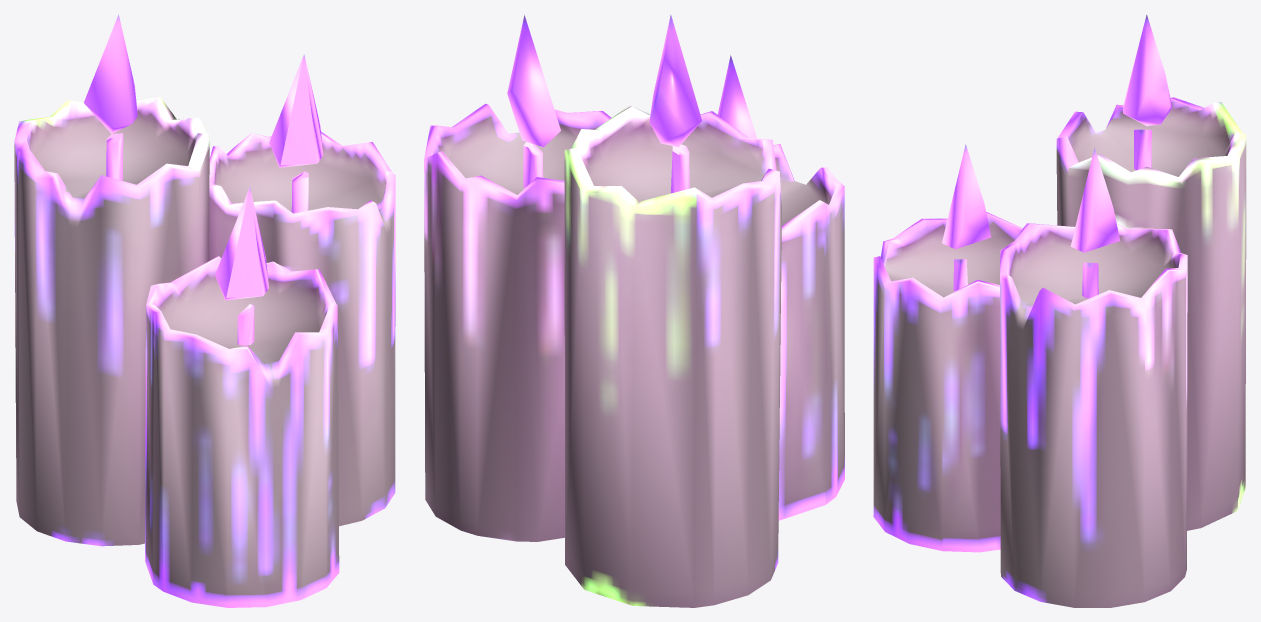
Rendered from candle04.glb.
The picture shows the model from 3 angles, left to right: view 1: azimuth 30°, elevation 25°; view 2: azimuth 150°, elevation 25°; view 3: azimuth 270°, elevation 25°; orthographic projection. The views are drawn at different scales.
Parts seen in each view (by area): view 1: Candle04_Halloween; view 2: Candle04_Halloween; view 3: Candle04_Halloween.
Part boxes in pixels (x1,y1,x2,y2): Candle04_Halloween: (14, 14, 395, 607); Candle04_Halloween: (424, 14, 844, 607); Candle04_Halloween: (873, 14, 1246, 607).
Size of the model in its own units: 0.4854 by 0.7074 by 0.4953.
Materials: 1 (1 with a texture image).
